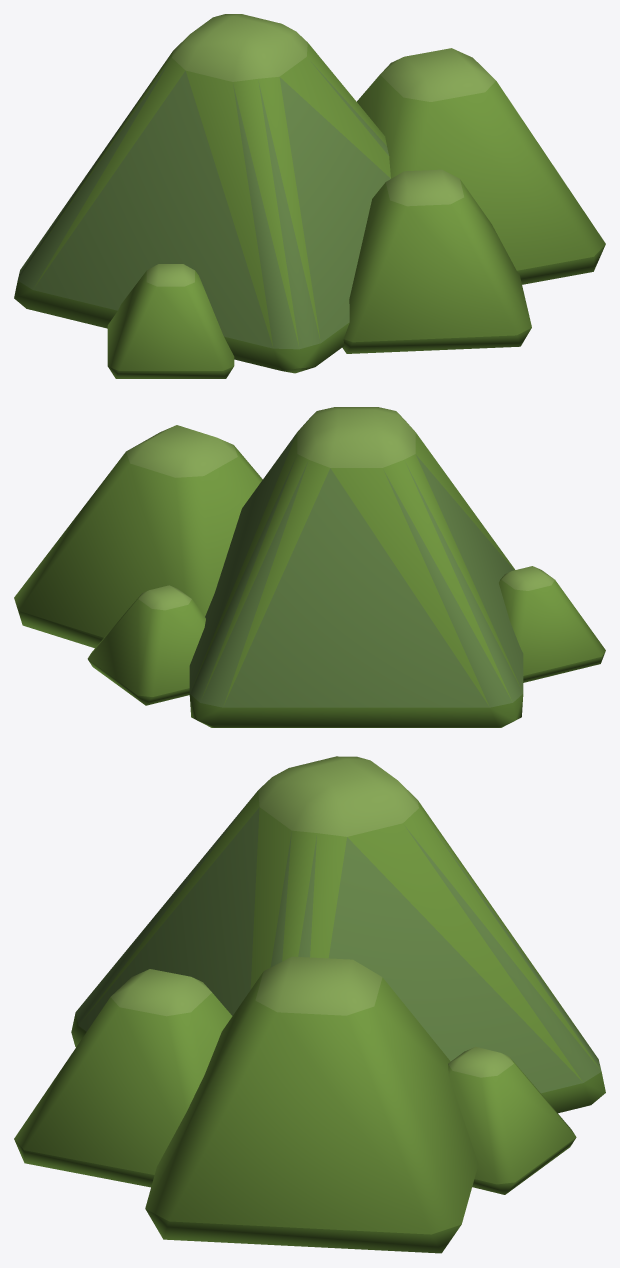
The model's file is itch_kaykit_forest_bush_4_e_color1.glb.
The picture shows the model from 3 angles, top to bottom: view 1: azimuth 30°, elevation 25°; view 2: azimuth 150°, elevation 25°; view 3: azimuth 270°, elevation 25°; orthographic projection. The views are drawn at different scales.
Visible parts, largest first — view 1: Bush_4_E_Color1; view 2: Bush_4_E_Color1; view 3: Bush_4_E_Color1.
Boxes of the visible parts, x1,y1,x2,y2 form: Bush_4_E_Color1: [14, 14, 605, 378]; Bush_4_E_Color1: [14, 407, 605, 727]; Bush_4_E_Color1: [14, 756, 605, 1253].
Size of the model in its own units: 0.96 by 0.4636 by 0.8113.
